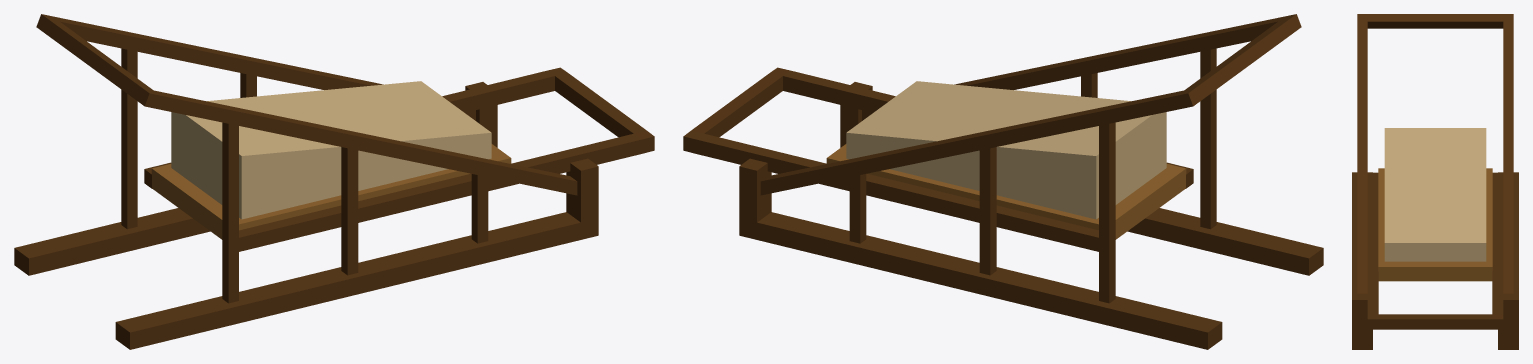
File: Slaigh_01.fbx
3 views of the same model, side by side, from view 1: azimuth 30°, elevation 25°; view 2: azimuth 150°, elevation 25°; view 3: azimuth 270°, elevation 25° (orthographic). The views are drawn at different scales.
Parts seen in each view (by area): view 1: Slaigh_01; view 2: Slaigh_01; view 3: Slaigh_01.
Boxes of the visible parts, x1,y1,x2,y2 form: Slaigh_01: (14, 14, 654, 349); Slaigh_01: (683, 14, 1323, 349); Slaigh_01: (1352, 14, 1518, 349).
Size of the model in its own units: 0.3682 by 0.1632 by 0.1378.
